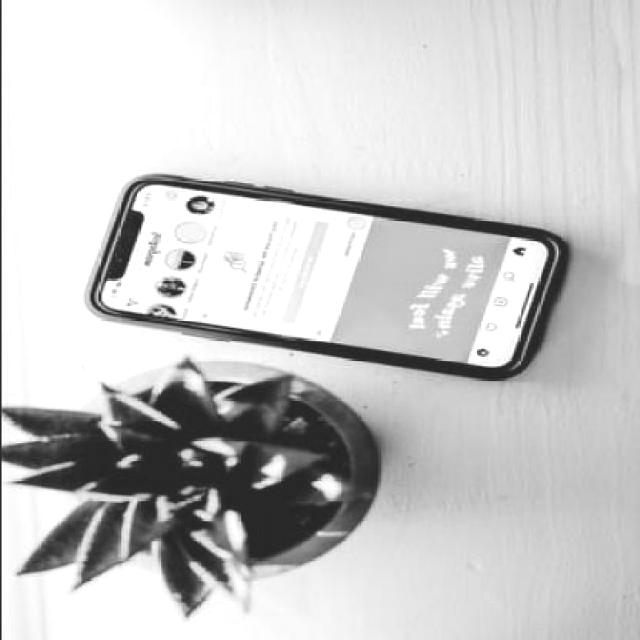fake: (76, 166, 558, 382)
